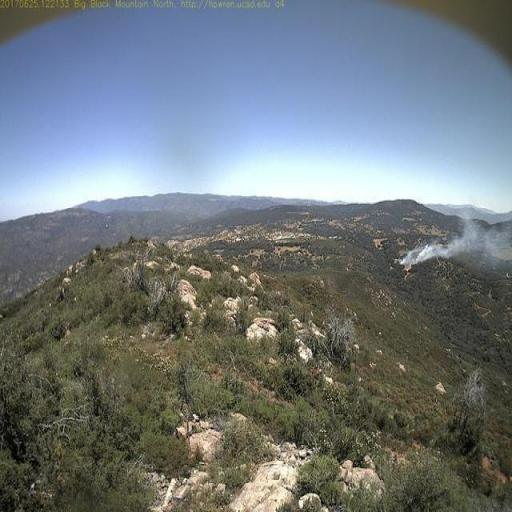smoke: (394, 206, 510, 270)
